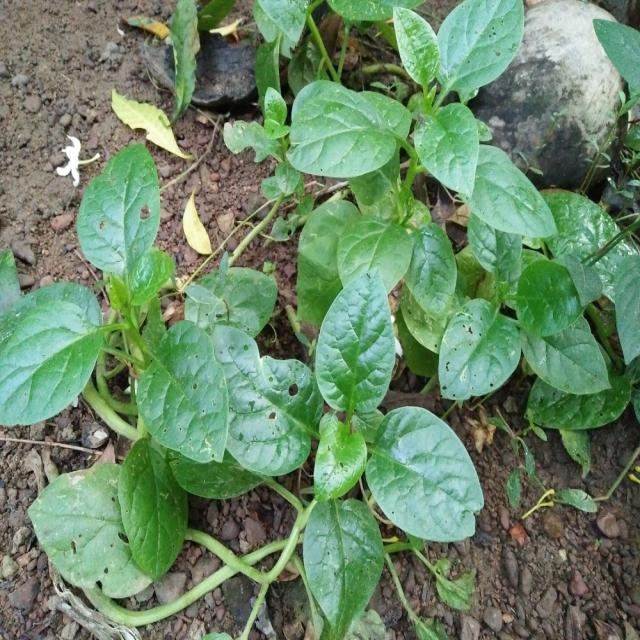Medicinal-Basale: (2, 140, 484, 622), (262, 14, 506, 402), (449, 222, 634, 426)
